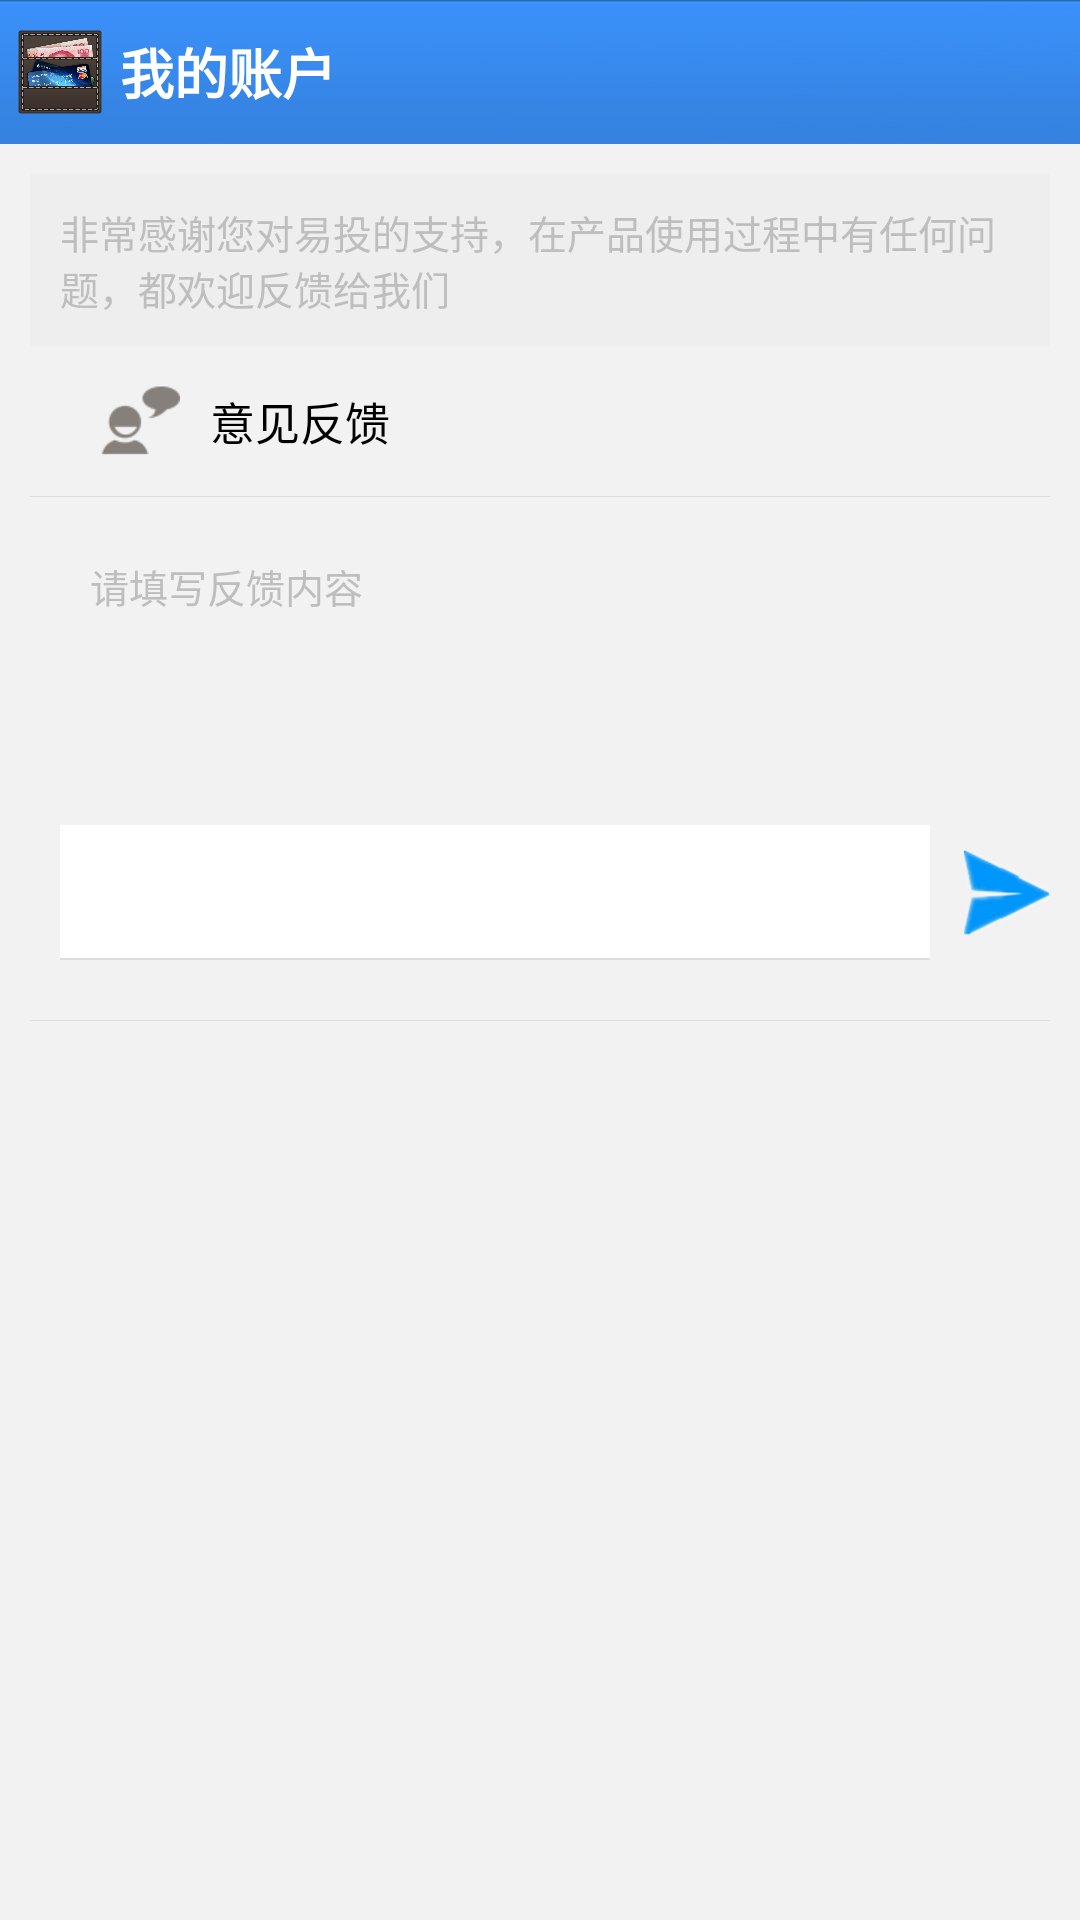

Icons on this 1080×1920 Android screen, each with its box as (x1, y1, x2, y2):
send: (964, 850, 1050, 935)
